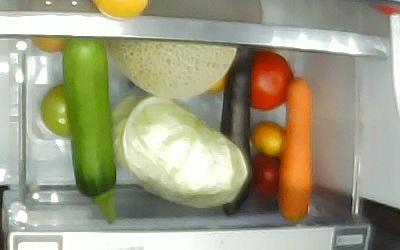cabbage: (109, 94, 247, 209)
carrot: (279, 78, 312, 221)
eggplant: (219, 50, 250, 217)
melon: (108, 39, 237, 101)
prune: (248, 153, 279, 201)
tangerine: (249, 121, 287, 157)
tomato: (240, 50, 294, 112), (40, 85, 70, 138)
zucchini: (62, 38, 115, 223)
